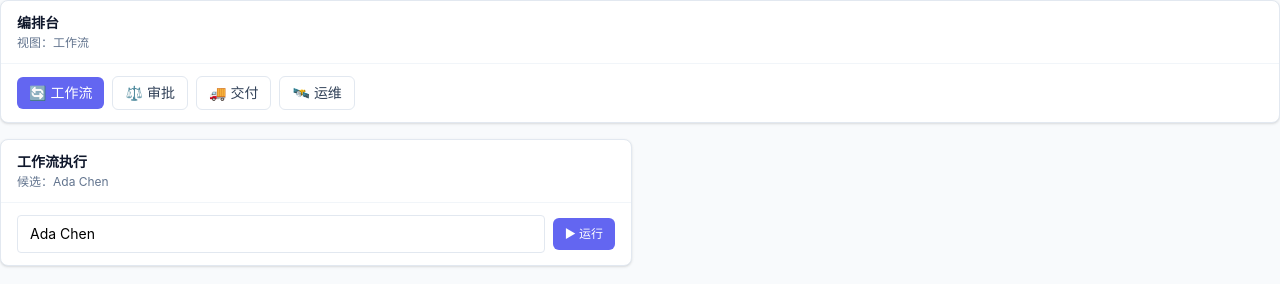
Test case: V132 ConsoleShell parity with monolith › delivery summary (delivery panel) replaces monolith GET /api/team-orchestration/delivery-summary
This screenshot has width=1280, height=284.
Click the tab with test id "shell-tab-delivery" at {"x": 234, "y": 93}, box [196,76,271,110]
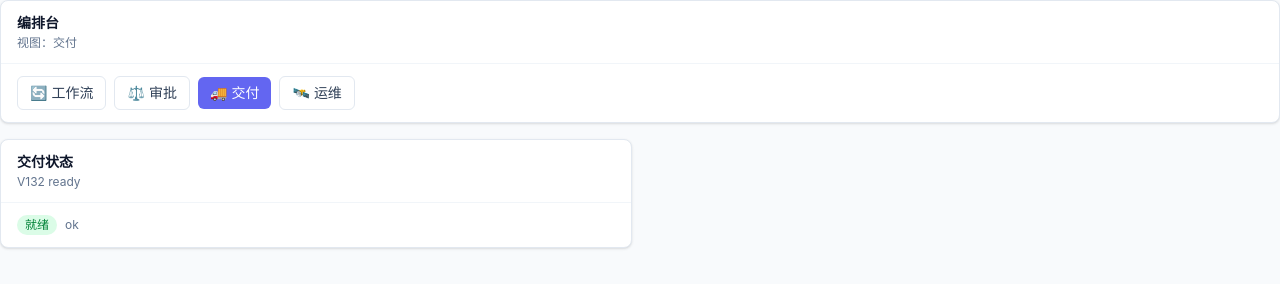
Check: the text "V132 ready" is shown, box [17,174,81,190]
